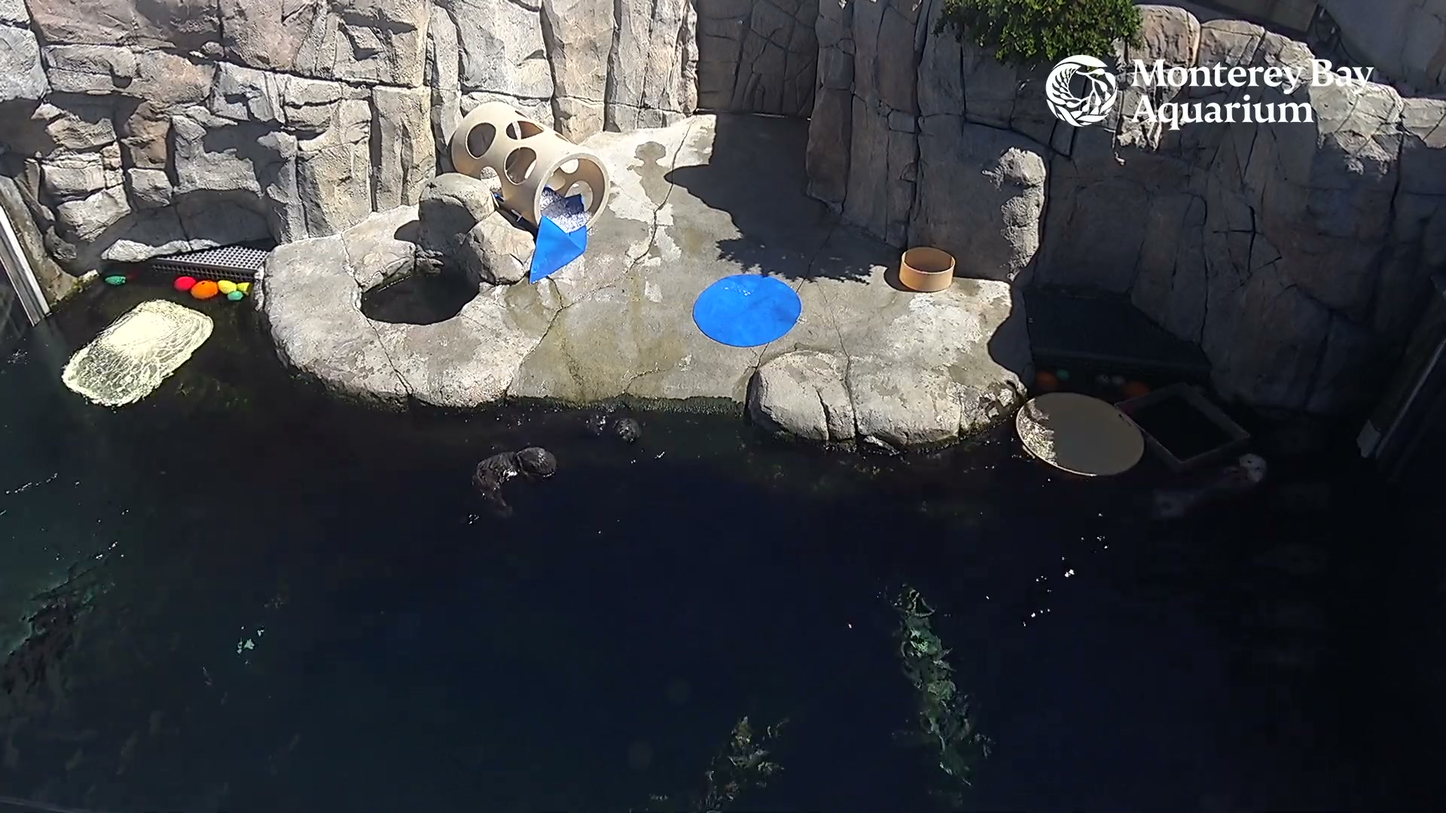Southern Sea Otter: (1143, 453, 1279, 544), (465, 442, 568, 521), (545, 406, 649, 454)
